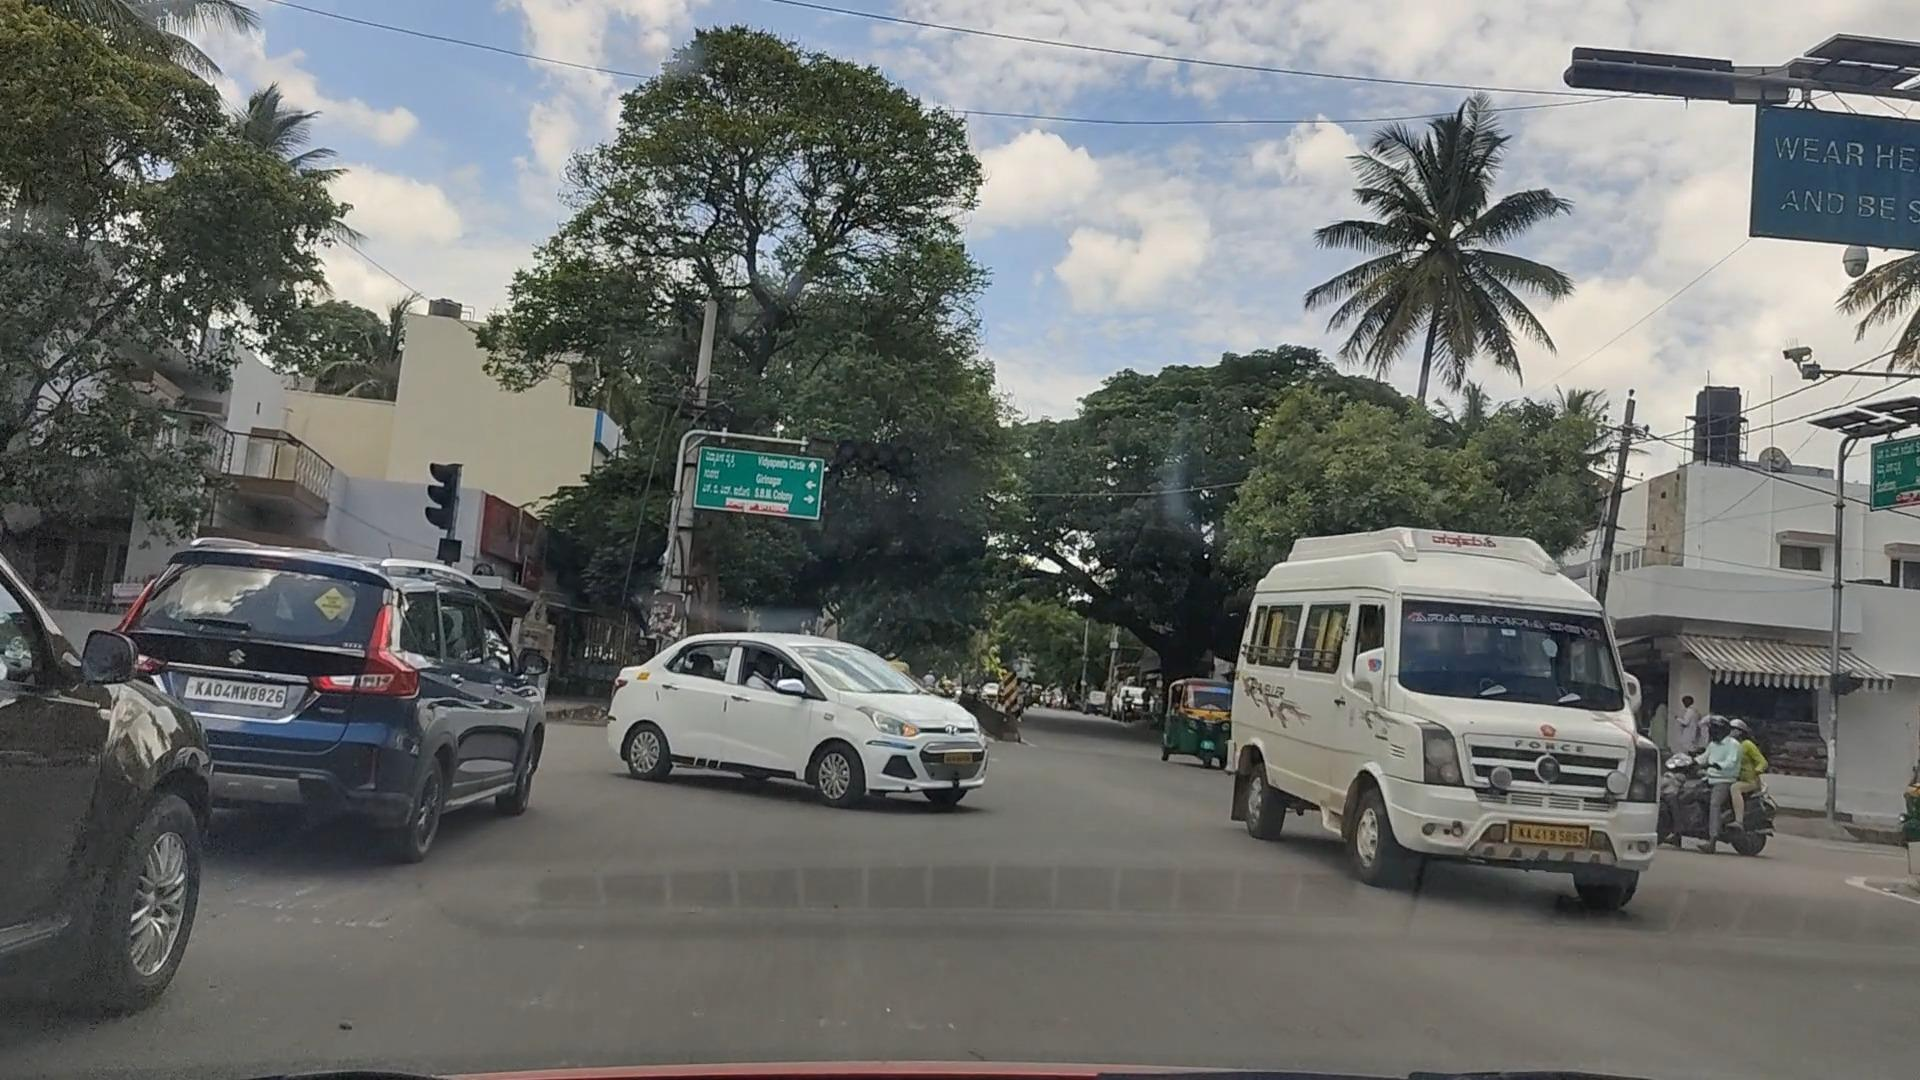LMV: (189, 546, 562, 870), (0, 558, 207, 1006), (633, 618, 1004, 808)
